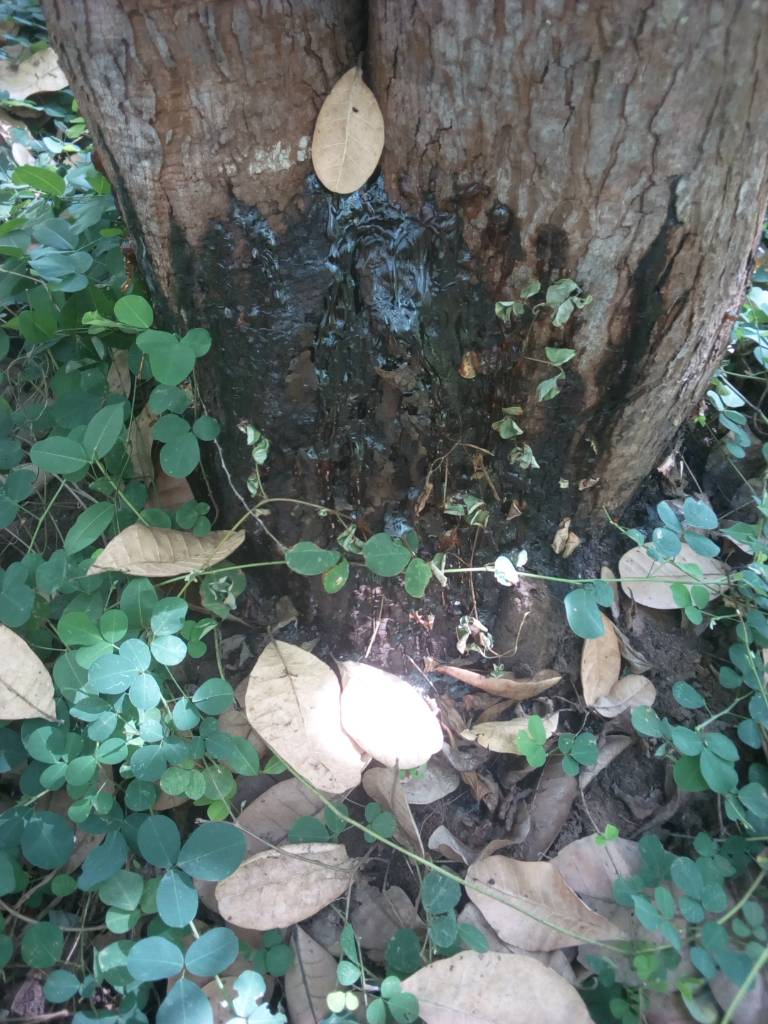Gommose: (149, 205, 668, 564)
